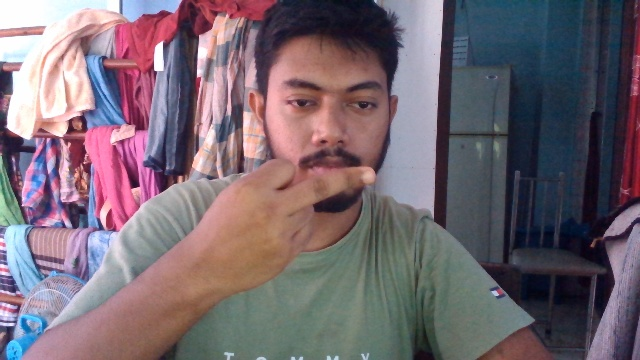fucku: (193, 155, 378, 289)
